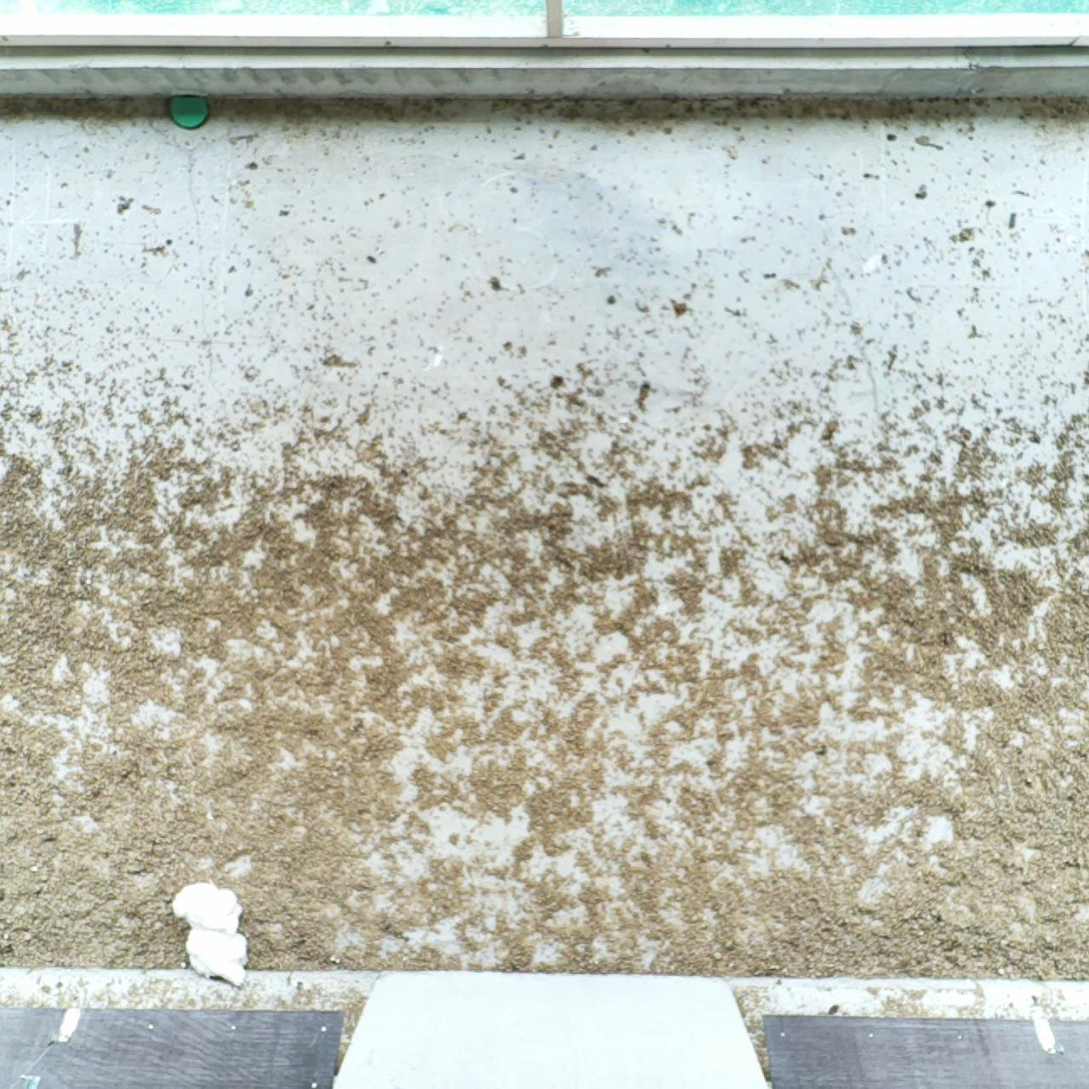chicken: (185, 922, 253, 990), (170, 880, 245, 936)
